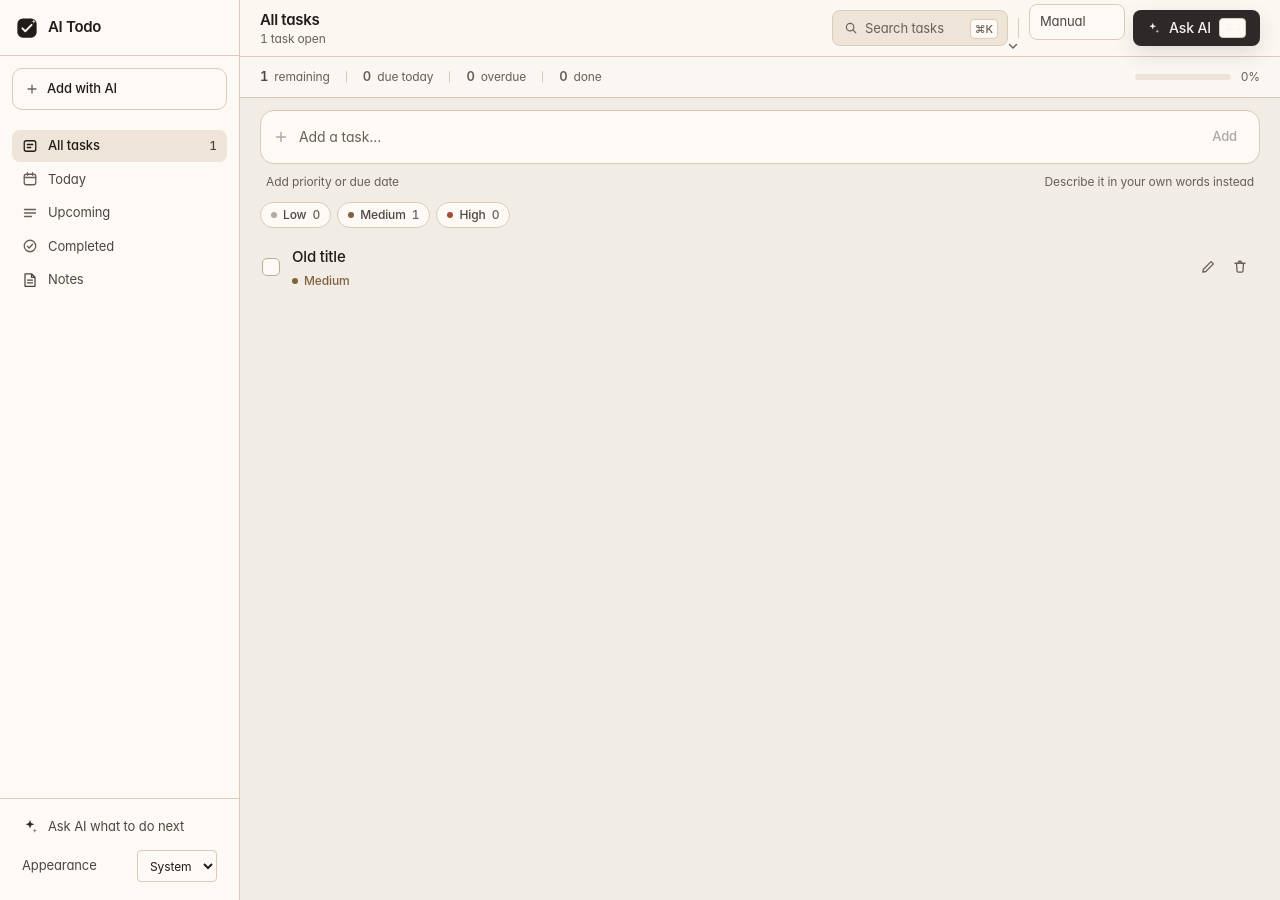
Test: edit a task › saves changes made in the editor
Click the button named "Open details for \"Old title\"" at {"x": 319, "y": 256}, box [292,246,1180,267]
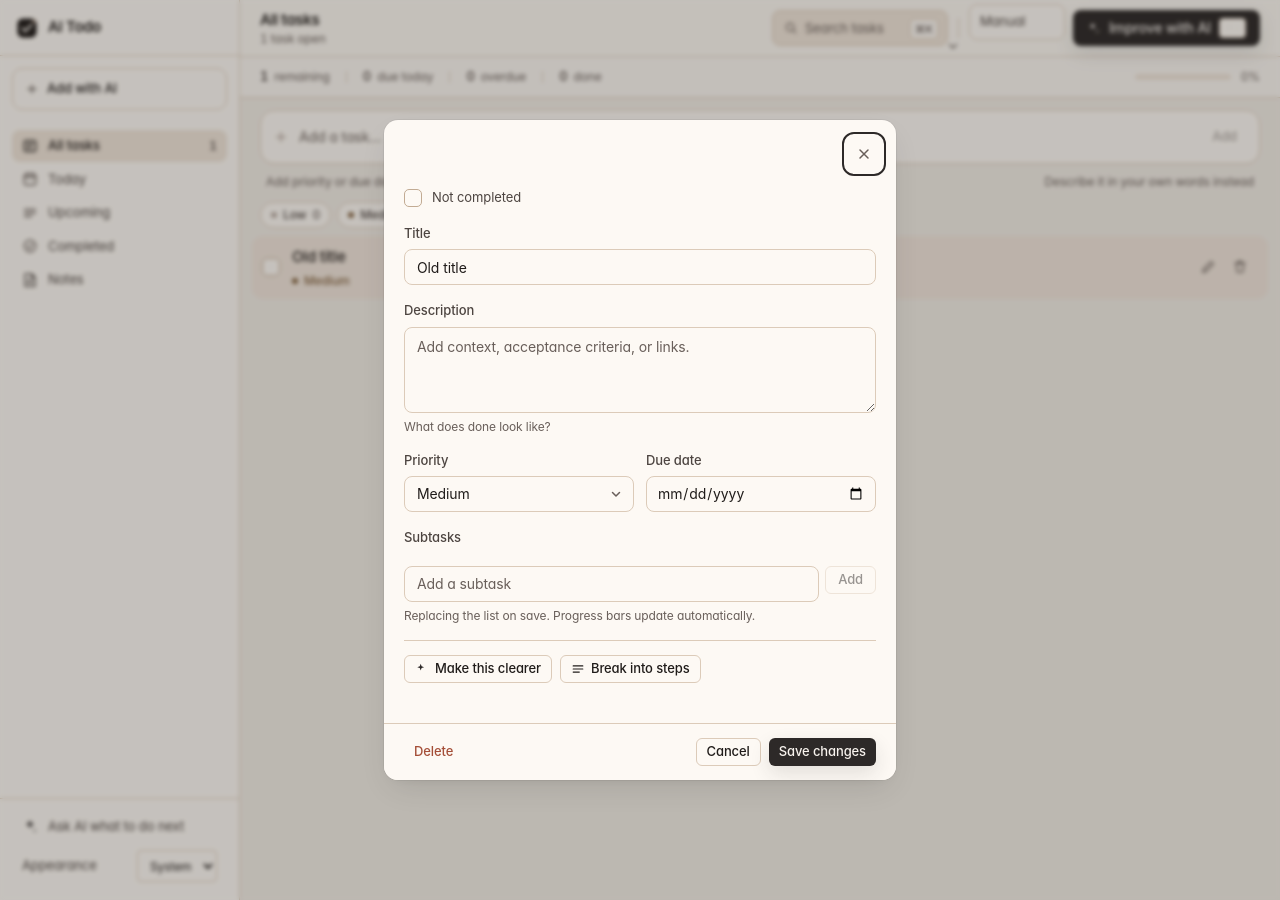
Clear the field labelled "Title" at {"x": 640, "y": 267}, box [404,249,876,285]
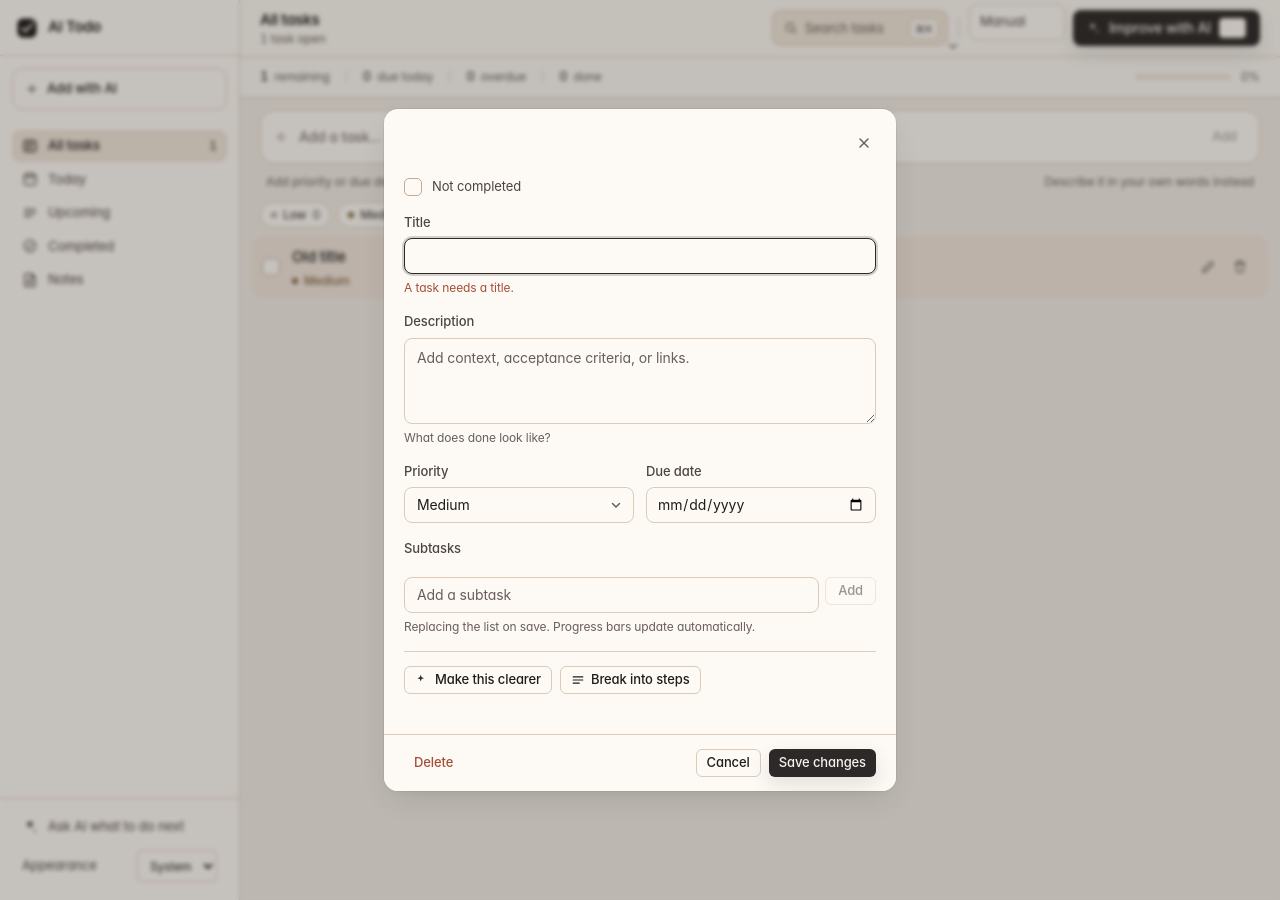
Type "New title" into the field labelled "Title" at {"x": 640, "y": 256}, box [404,238,876,274]
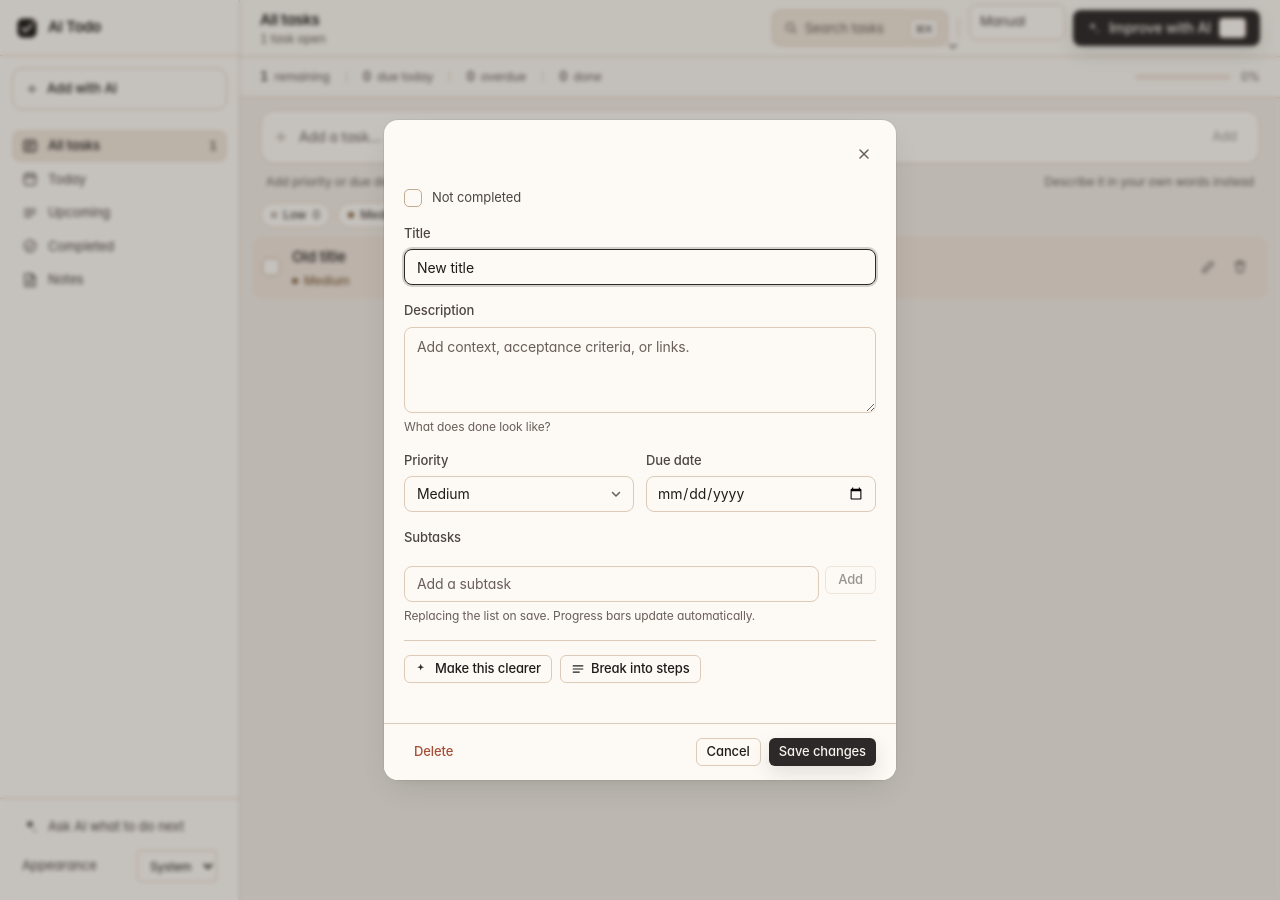
Click the button "Save changes" at {"x": 822, "y": 752}, box [769,738,876,766]
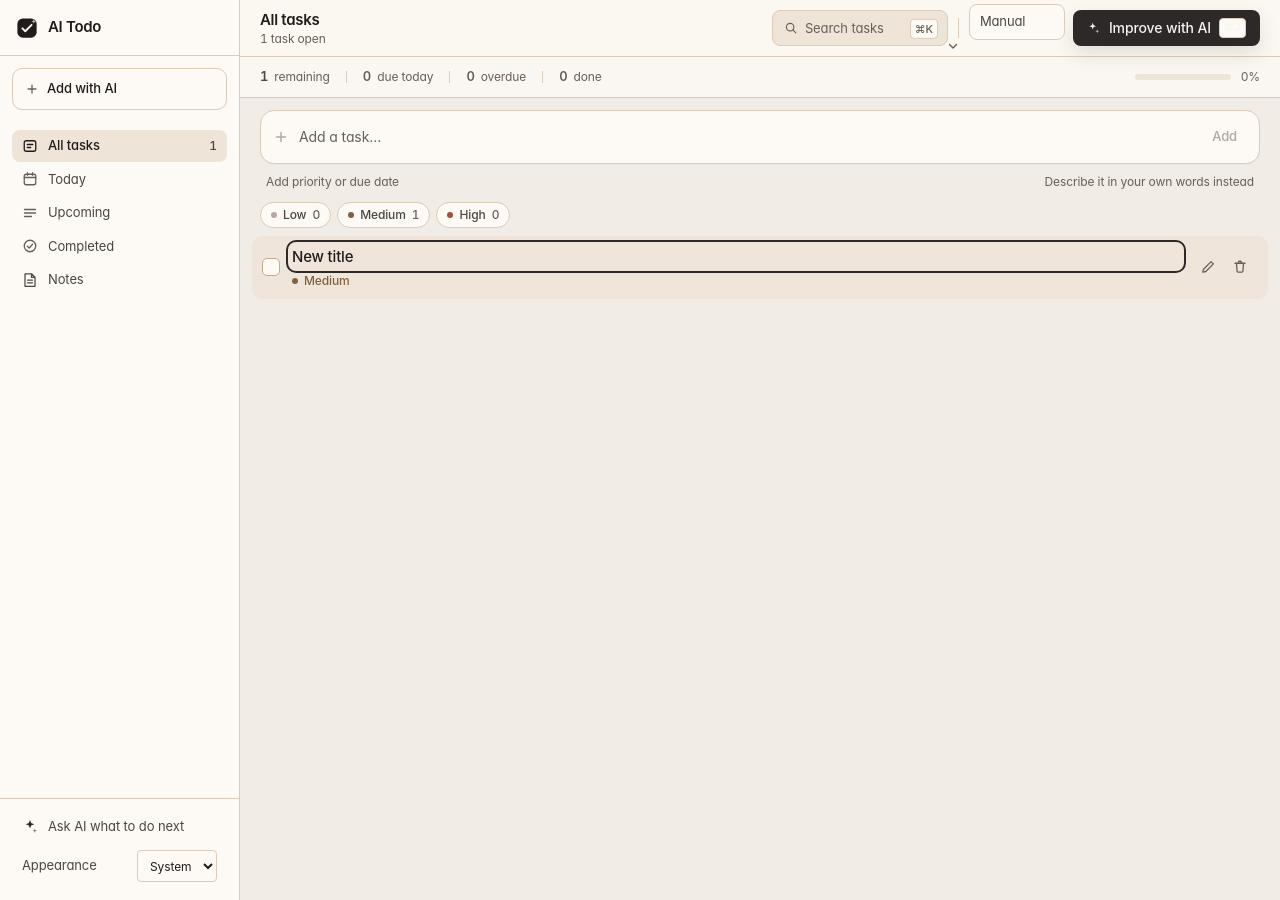
Expected: the text "New title" is shown, [292,246,353,266]
Expected: the button "Old title" is gone
